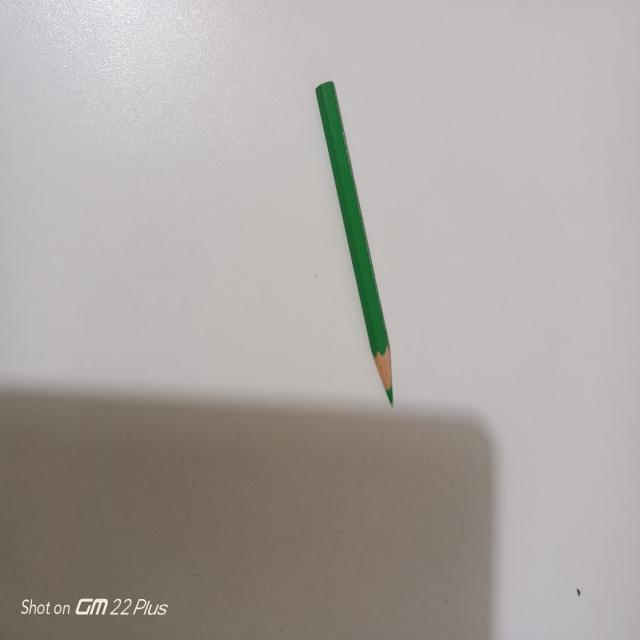pencil: (301, 70, 414, 427)
